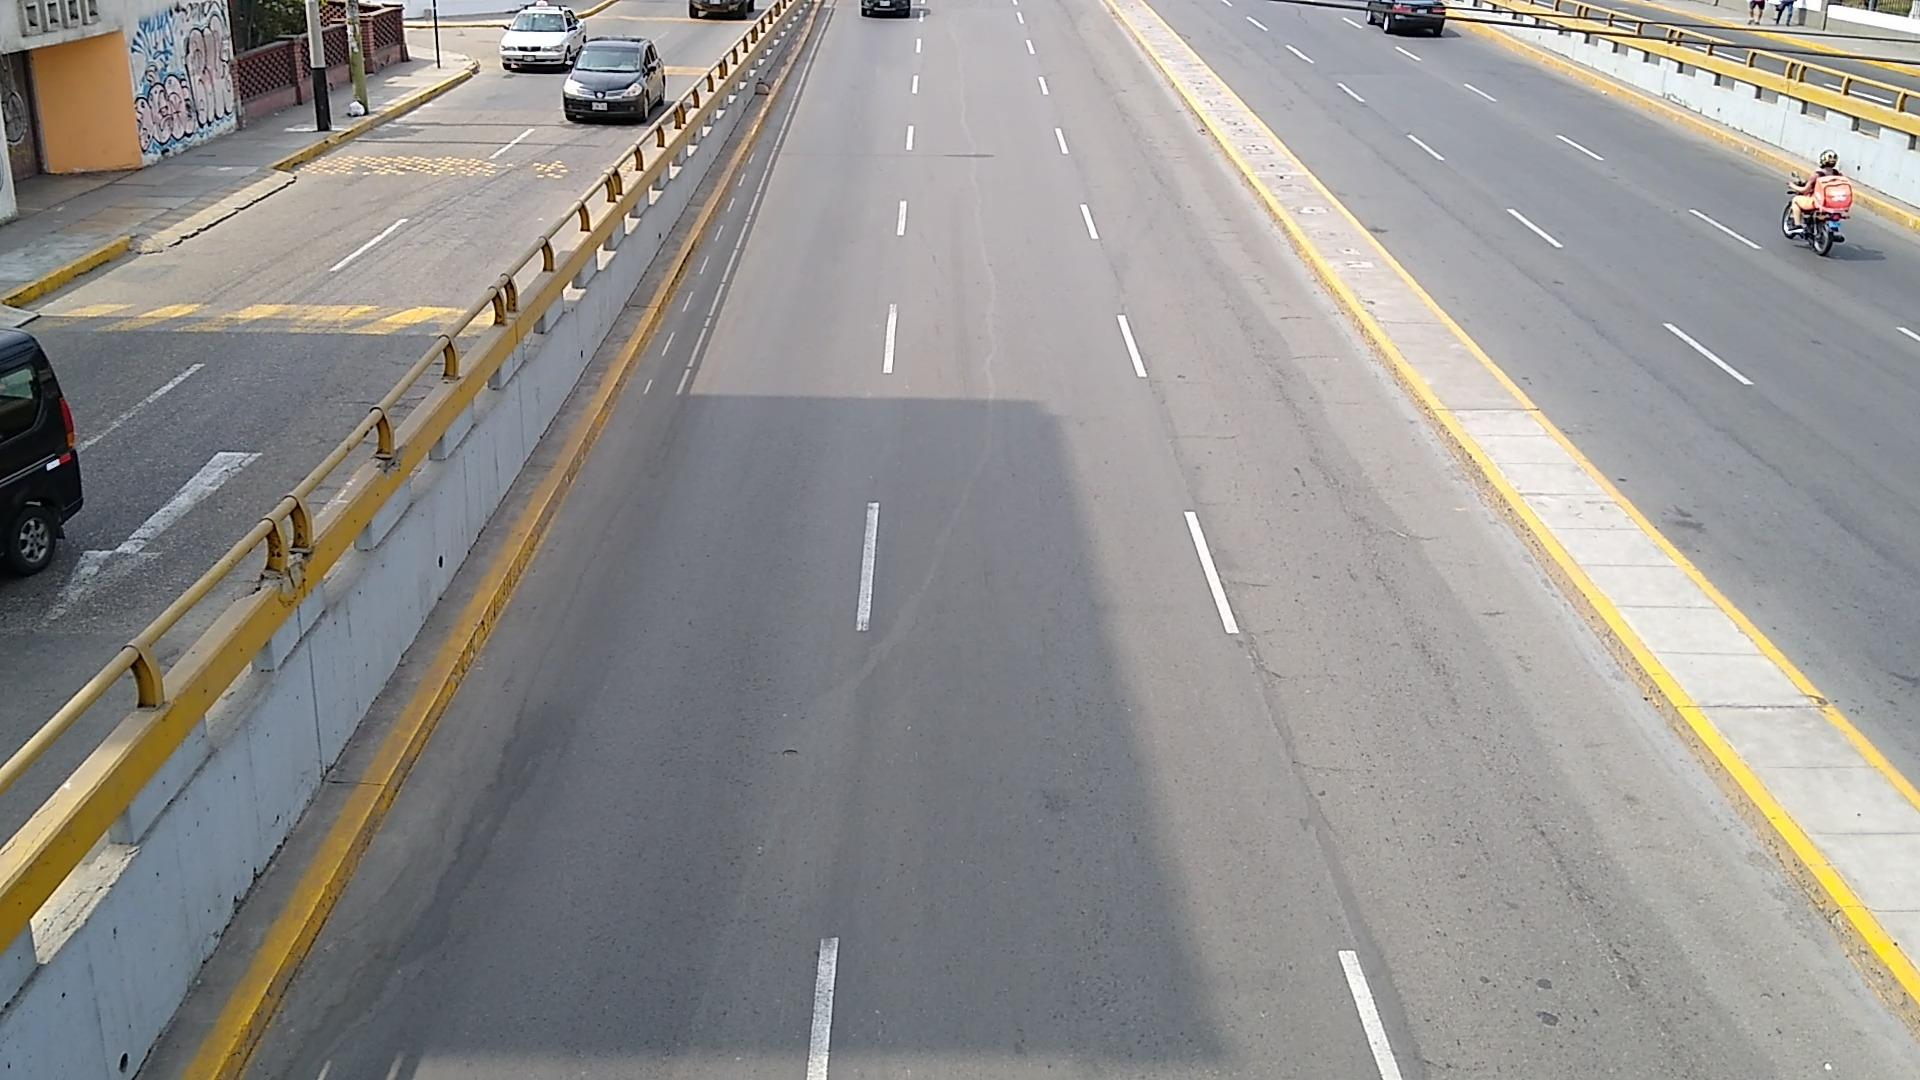car: (0, 326, 82, 574), (562, 38, 664, 120), (502, 4, 585, 71)
motorcyclist: (1789, 150, 1852, 229)
